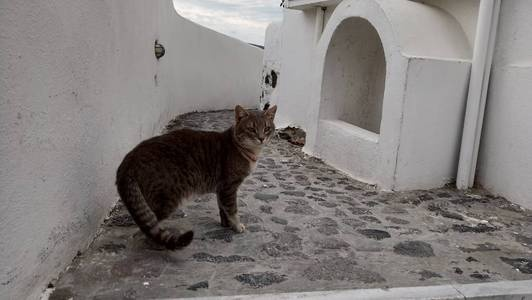cat: (114, 104, 277, 253)
